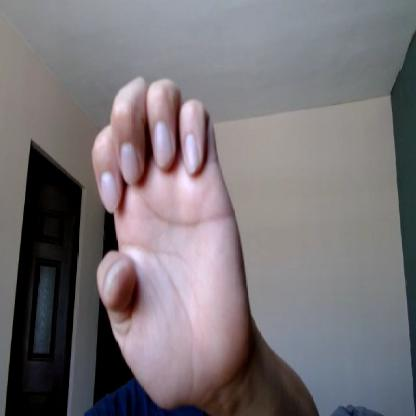E: (91, 72, 254, 405)
